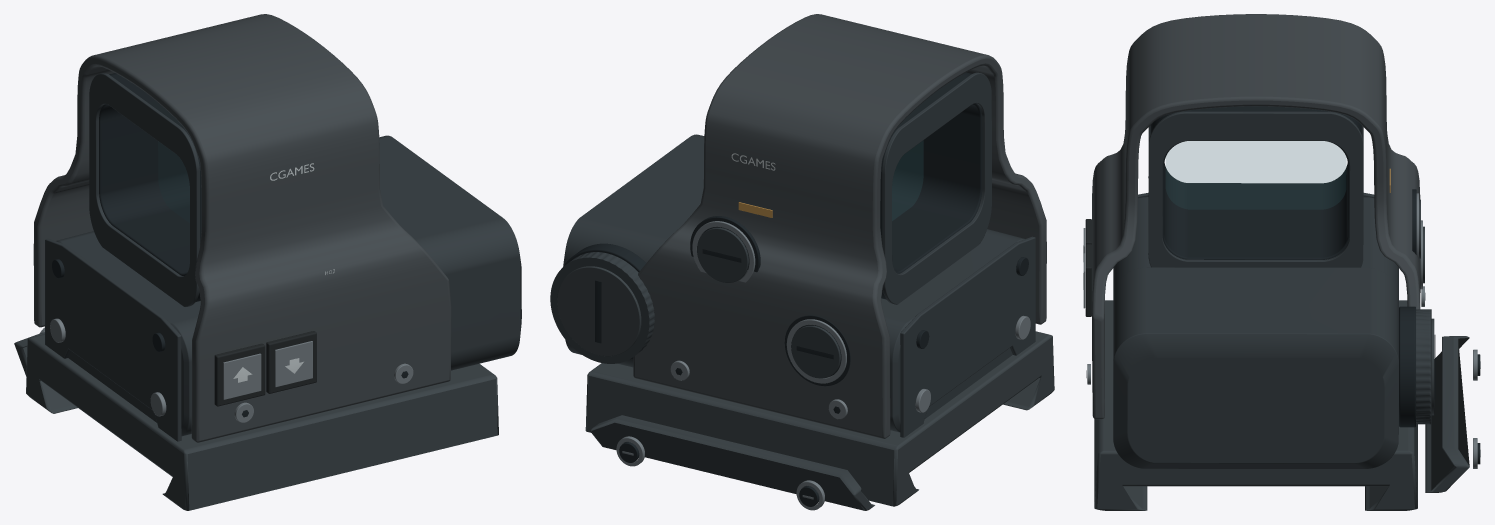
Rendered from H02_Holo_X50_Rail.glb.
3 views of the same model, side by side, from view 1: azimuth 30°, elevation 25°; view 2: azimuth 150°, elevation 25°; view 3: azimuth 270°, elevation 25° (orthographic).
Visible parts, largest first — view 1: 01 open protective U hood, 04 undercut adapter bridge, 02 rounded forward casing, 02 rear visible face plate, 03 inner window structural frame, 03 window rim rear, 03 transparent visual pane, 05 left button gasket.001, 05 left button face.001, 05 left button face, 05 left button gasket; view 2: 01 open protective U hood, 04 undercut adapter bridge, 02 rounded forward casing, 02 rear visible face plate, 03 inner window structural frame, 04 independent right side strip, 03 window rim rear, 05 front cap center, 05 front cap fine grip, 05 right inset disk, 05 right inset disk.001, 03 transparent visual pane (+5 smaller); view 3: 02 rounded forward casing, 01 open protective U hood, 03 inner window structural frame, 03 transparent visual pane, 04 undercut adapter bridge, 03 window rim front, 04 independent right side strip, 05 front side cap seat, 05 front cap fine grip, 05 left button gasket.
Part boxes in pixels (left/top/right/bottom): 01 open protective U hood: left=33, top=14, right=451, bottom=442; 04 undercut adapter bridge: left=26, top=334, right=498, bottom=510; 02 rounded forward casing: left=56, top=135, right=521, bottom=436; 02 rear visible face plate: left=45, top=238, right=181, bottom=441; 03 inner window structural frame: left=99, top=73, right=201, bottom=301; 03 window rim rear: left=89, top=73, right=199, bottom=306; 03 transparent visual pane: left=158, top=142, right=189, bottom=222; 05 left button gasket.001: left=214, top=343, right=265, bottom=406; 05 left button face.001: left=223, top=353, right=261, bottom=399; 05 left button face: left=275, top=341, right=312, bottom=387; 05 left button gasket: left=266, top=331, right=316, bottom=393; 01 open protective U hood: left=633, top=14, right=1046, bottom=438; 04 undercut adapter bridge: left=585, top=331, right=1054, bottom=506; 02 rounded forward casing: left=563, top=134, right=1024, bottom=432; 02 rear visible face plate: left=900, top=236, right=1035, bottom=437; 03 inner window structural frame: left=880, top=72, right=982, bottom=299; 04 independent right side strip: left=590, top=415, right=874, bottom=510; 03 window rim rear: left=882, top=72, right=991, bottom=304; 05 front cap center: left=557, top=266, right=641, bottom=356; 05 front cap fine grip: left=550, top=252, right=654, bottom=363; 05 right inset disk: left=697, top=227, right=748, bottom=282; 05 right inset disk.001: left=791, top=325, right=840, bottom=378; 03 transparent visual pane: left=892, top=141, right=923, bottom=220; 02 rounded forward casing: left=1113, top=197, right=1398, bottom=468; 01 open protective U hood: left=1092, top=14, right=1420, bottom=419; 03 inner window structural frame: left=1150, top=106, right=1361, bottom=259; 03 transparent visual pane: left=1166, top=141, right=1346, bottom=209; 04 undercut adapter bridge: left=1094, top=300, right=1417, bottom=510; 03 window rim front: left=1148, top=111, right=1363, bottom=267; 04 independent right side strip: left=1425, top=336, right=1469, bottom=492; 05 front side cap seat: left=1399, top=306, right=1415, bottom=427; 05 front cap fine grip: left=1416, top=309, right=1431, bottom=424; 05 left button gasket: left=1085, top=244, right=1091, bottom=316.
Size of the model in its own units: 0.0833 by 0.0825 by 0.0818.
